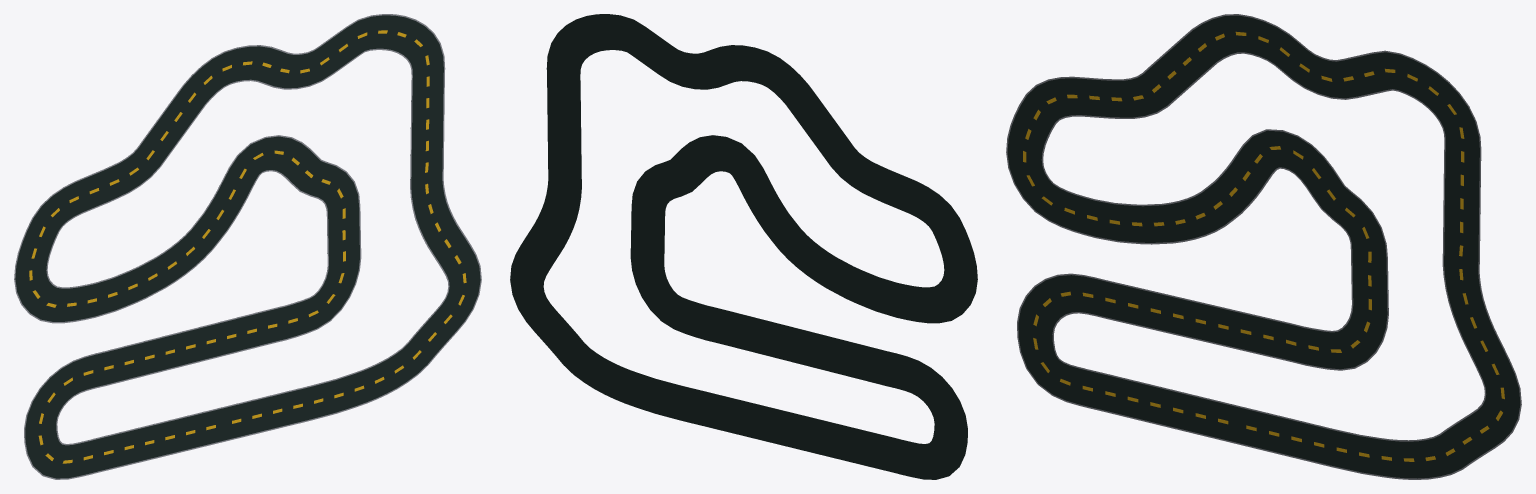
Rendered from track.obj.
3 renders of one model, left to right at view 1: azimuth 30°, elevation 25°; view 2: azimuth 150°, elevation 25°; view 3: azimuth 330°, elevation 25°, orthographic. The views are drawn at different scales.
Size of the model in its own units: 14.86 by 11.88 by 0.002.
